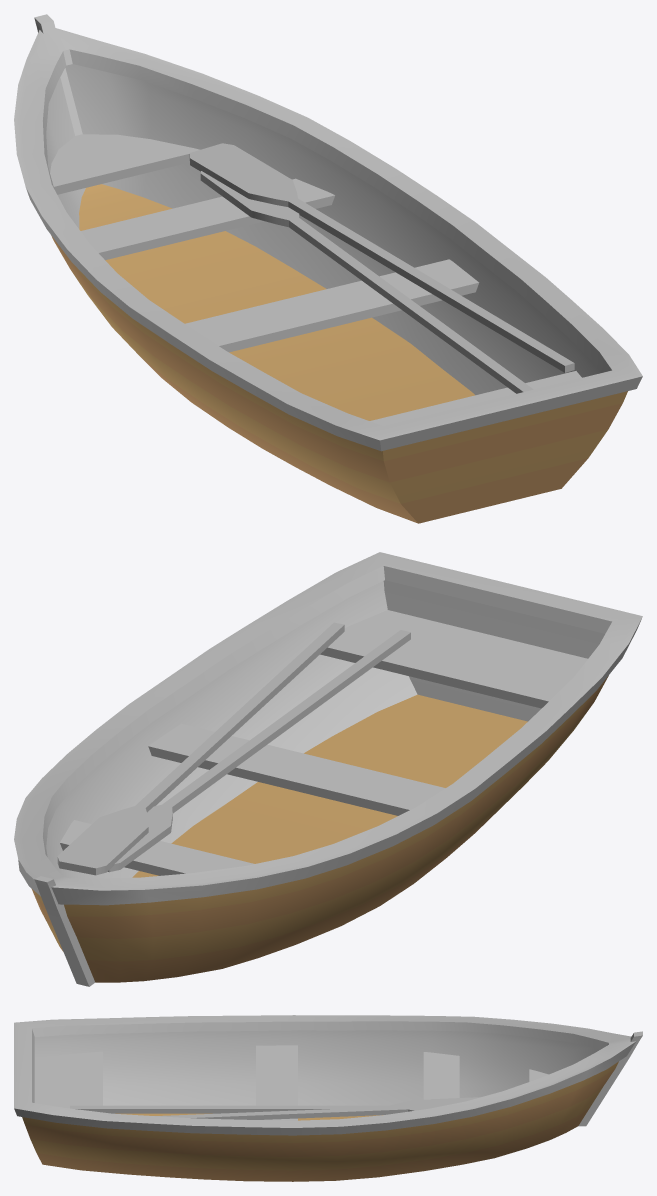
File: boat_flouka.fbx
3 views of the same model, one above another, from view 1: azimuth 30°, elevation 25°; view 2: azimuth 150°, elevation 25°; view 3: azimuth 270°, elevation 25° (orthographic). The views are drawn at different scales.
Visible parts, largest first — view 1: flouka_body, flouka_benches, flouka_paddle_B, flouka_paddle_A; view 2: flouka_body, flouka_benches, flouka_paddle_B, flouka_paddle_A; view 3: flouka_body, flouka_benches, flouka_paddle_A, flouka_paddle_B.
Boxes of the visible parts, x1,y1,x2,y2 form: flouka_body: (14,14,642,523); flouka_benches: (50,134,581,426); flouka_paddle_B: (189,143,574,372); flouka_paddle_A: (200,171,533,393); flouka_body: (14,552,642,986); flouka_benches: (60,610,587,875); flouka_paddle_B: (57,622,344,875); flouka_paddle_A: (107,630,410,872); flouka_body: (14,1015,642,1181); flouka_benches: (34,1045,548,1120); flouka_paddle_A: (70,1099,428,1113); flouka_paddle_B: (155,1097,479,1119).
Bounding box in the file's own units: 168 × 77.88 × 396.
